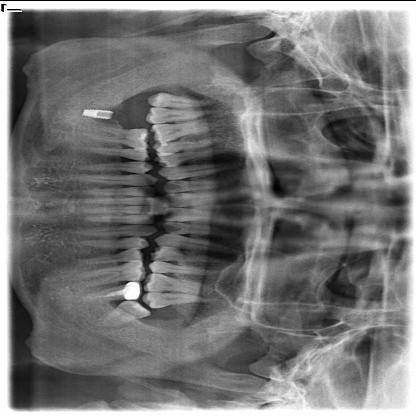Bicon: (80, 106, 116, 119)
